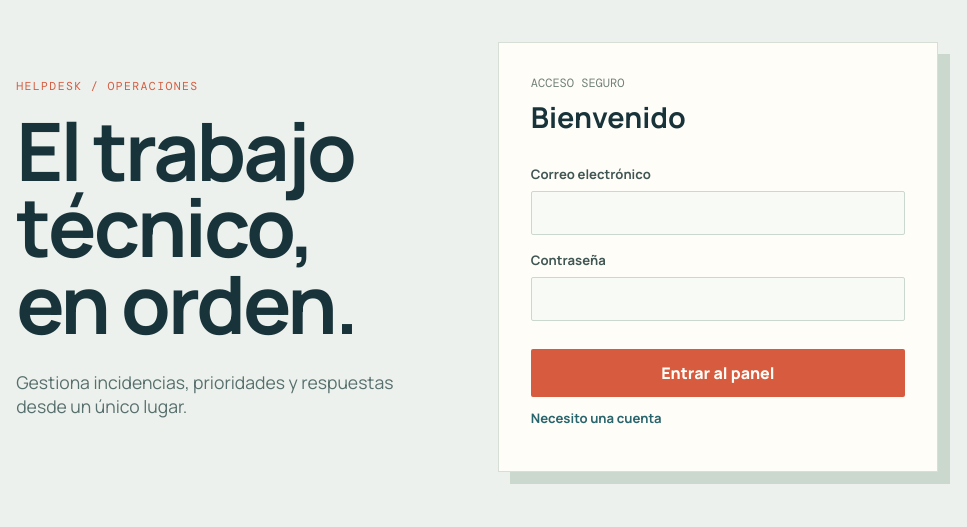
Test case: HelpDesk frontend › muestra y valida el formulario de acceso
The width and height of the screenshot is (967, 527).
Expected: the text "Bienvenido" is shown, x1=531 y1=97 x2=686 y2=137
Click the button "Entrar al panel" at (718, 373), box x1=531 y1=349 x2=905 y2=397
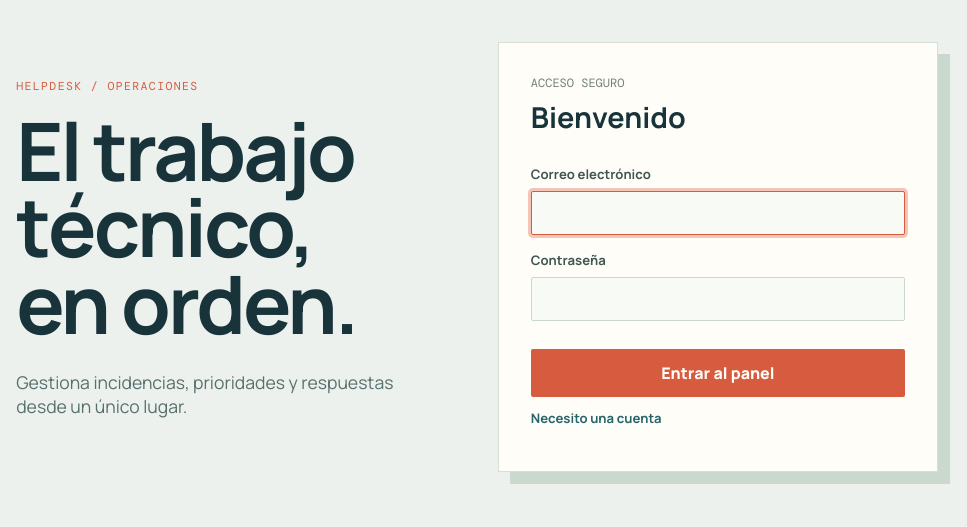
Type "ana@example.com" into the field labelled "Correo electrónico" at (718, 213), box x1=531 y1=191 x2=905 y2=235
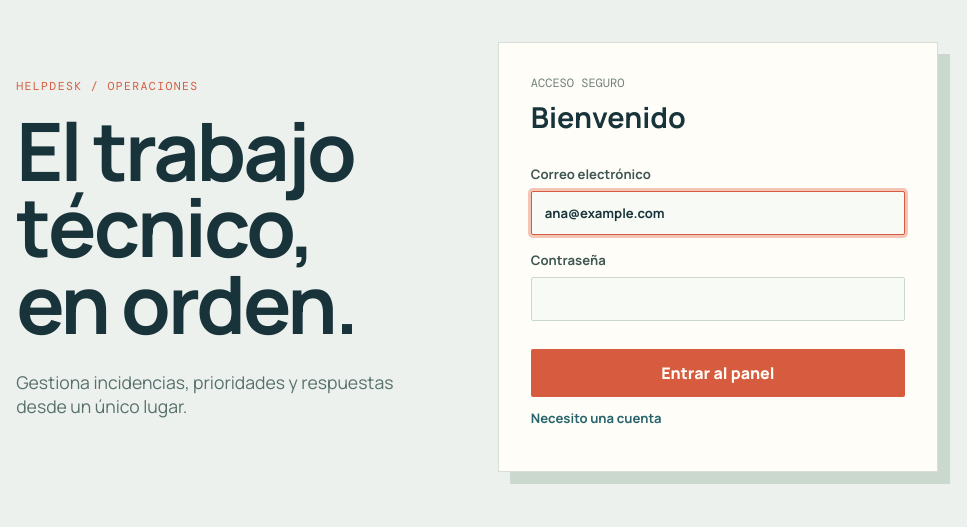
Type "password-segura" into the password field labelled "Contraseña" at (718, 299), box x1=531 y1=277 x2=905 y2=321
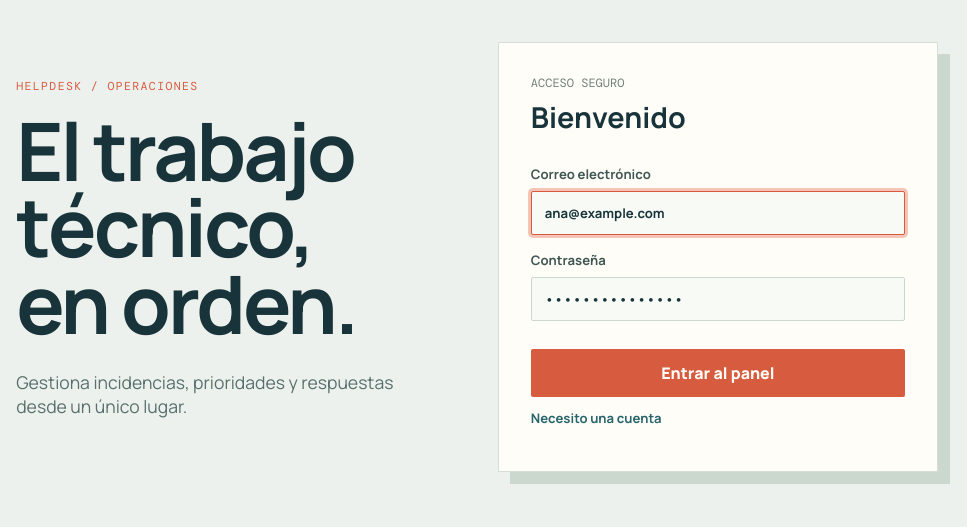
Click the button "Entrar al panel" at (718, 373), box x1=531 y1=349 x2=905 y2=397
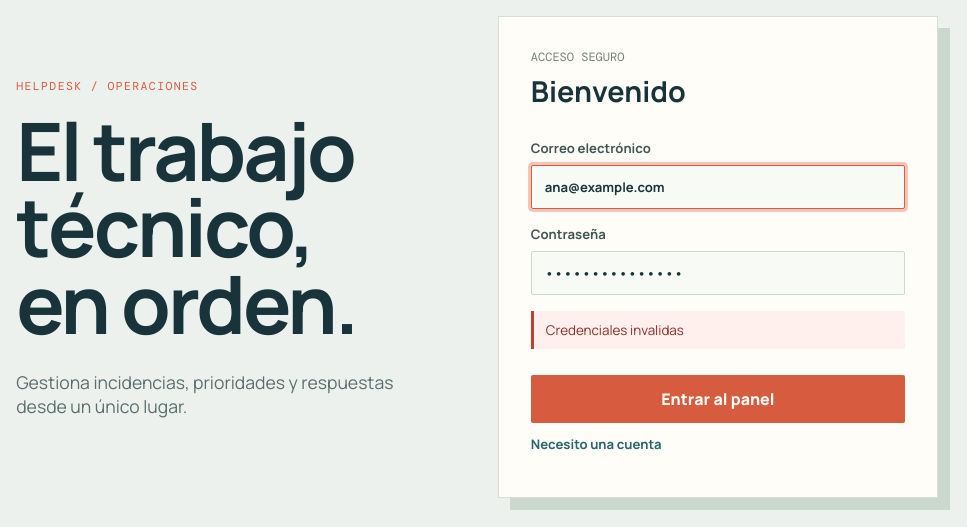
Now the message reads "Credenciales invalidas", box x1=546 y1=321 x2=684 y2=339
